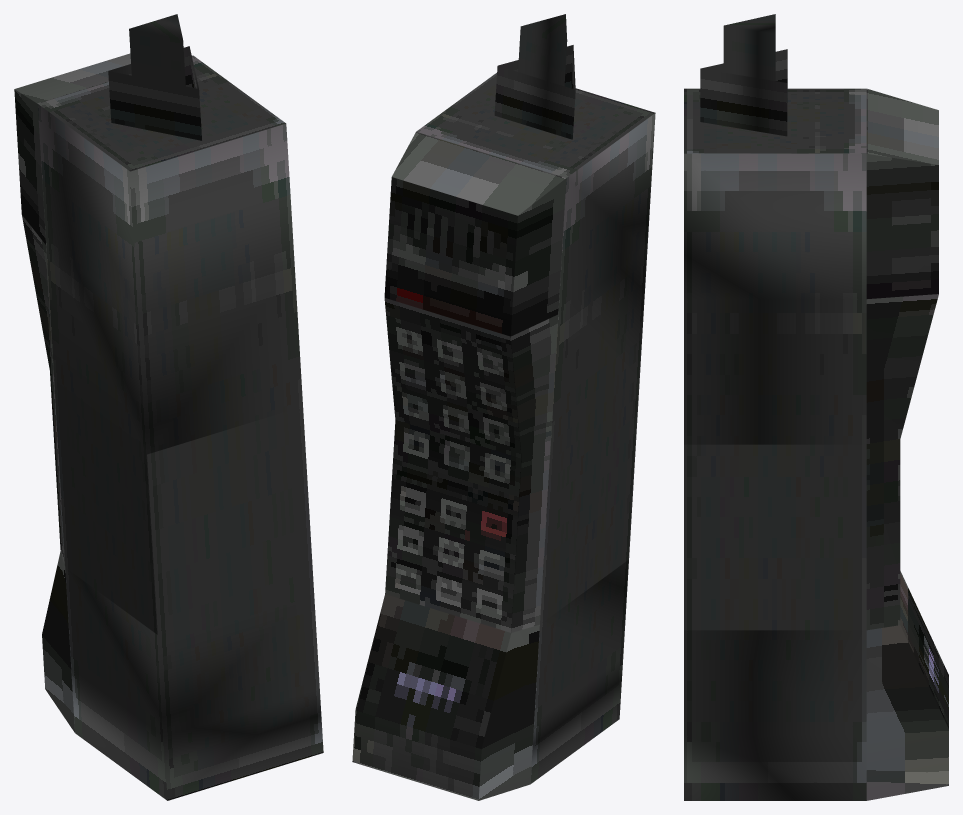
Rendered from Cellphone.fbx.
3 renders of one model, left to right at view 1: azimuth 30°, elevation 25°; view 2: azimuth 150°, elevation 25°; view 3: azimuth 270°, elevation 25°, orthographic. The views are drawn at different scales.
Visible parts, largest first — view 1: cellphone; view 2: cellphone; view 3: cellphone.
Part boxes in pixels (x1,y1,x2,y2): cellphone: (14, 14, 323, 800); cellphone: (352, 14, 655, 800); cellphone: (684, 14, 948, 800).
Bounding box in the file's own units: 6.63 × 24.21 × 7.97.
Materials: 1 (1 with a texture image).
